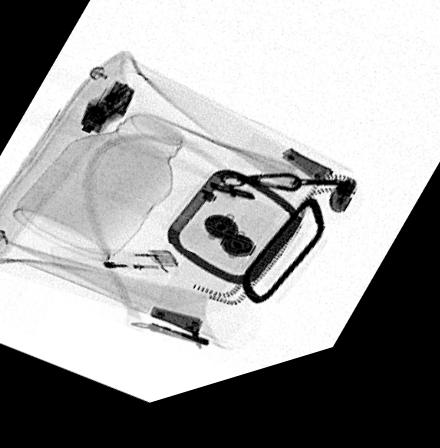Lighter: (48, 248, 182, 288)
